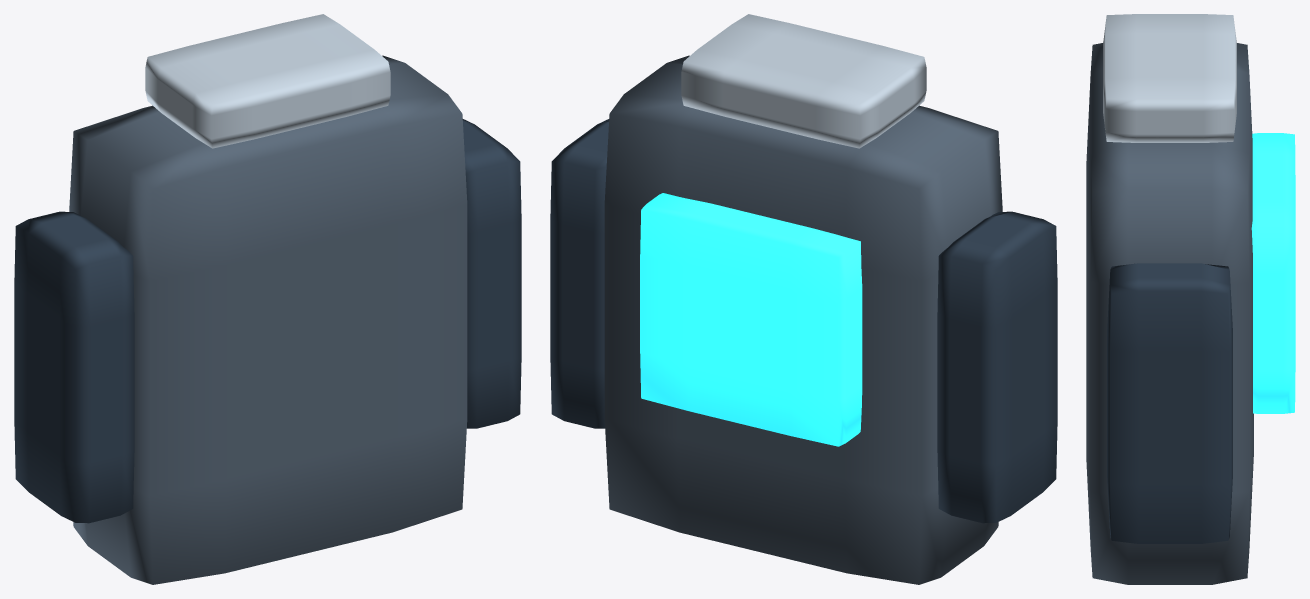
File: backpack-nexus.glb
3 views of the same model, side by side, from view 1: azimuth 30°, elevation 25°; view 2: azimuth 150°, elevation 25°; view 3: azimuth 270°, elevation 25° (orthographic). The views are drawn at different scales.
Parts seen in each view (by area): view 1: Pack, SideL, Top, SideR; view 2: Pack, Panel, SideL, Top, SideR; view 3: Pack, SideR, Top, Panel.
Boxes of the visible parts, x1,y1,x2,y2 form: Pack: (69, 55, 467, 584); SideL: (14, 211, 134, 523); Top: (145, 14, 390, 148); SideR: (462, 119, 521, 428); Pack: (604, 55, 1002, 584); Panel: (640, 193, 862, 446); SideL: (937, 211, 1057, 523); Top: (681, 14, 926, 148); SideR: (550, 119, 609, 428); Pack: (1086, 43, 1253, 584); SideR: (1107, 263, 1232, 543); Top: (1103, 14, 1236, 142); Panel: (1251, 133, 1295, 413).
Bounding box in the file's own units: 1.81 × 1.83 × 0.75.
